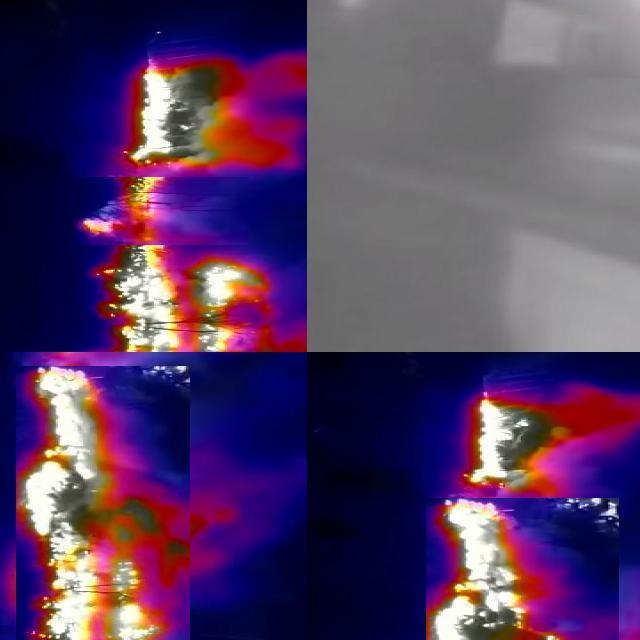fire: (16, 367, 190, 640), (426, 499, 619, 640), (70, 249, 308, 353), (128, 58, 298, 173), (74, 179, 249, 247), (462, 401, 584, 493)
